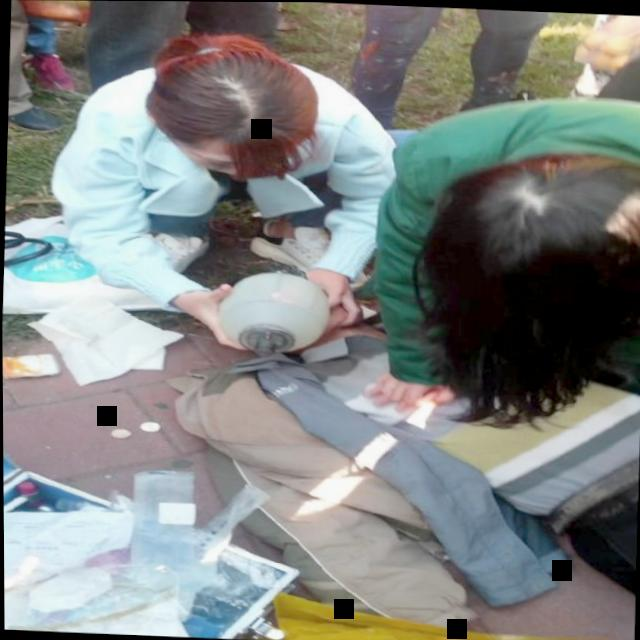Fall-Detected: (171, 219, 640, 640)
